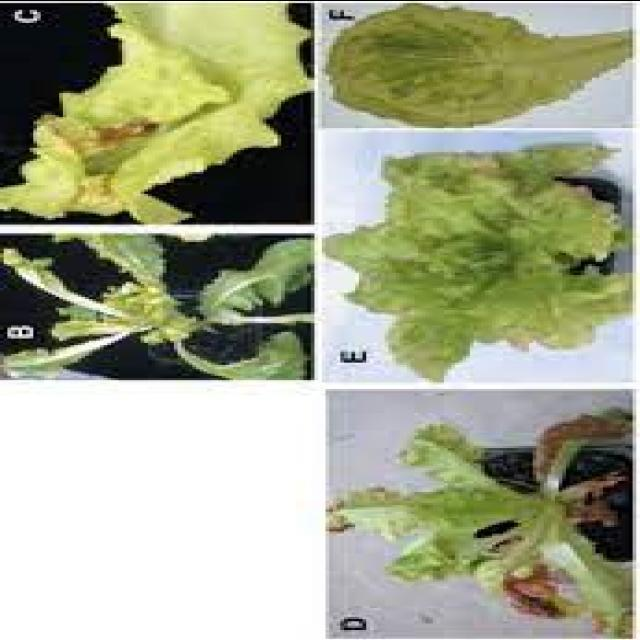Lettuce: (326, 140, 626, 382), (337, 412, 635, 632), (8, 0, 308, 216), (5, 235, 313, 377), (325, 5, 630, 128)
